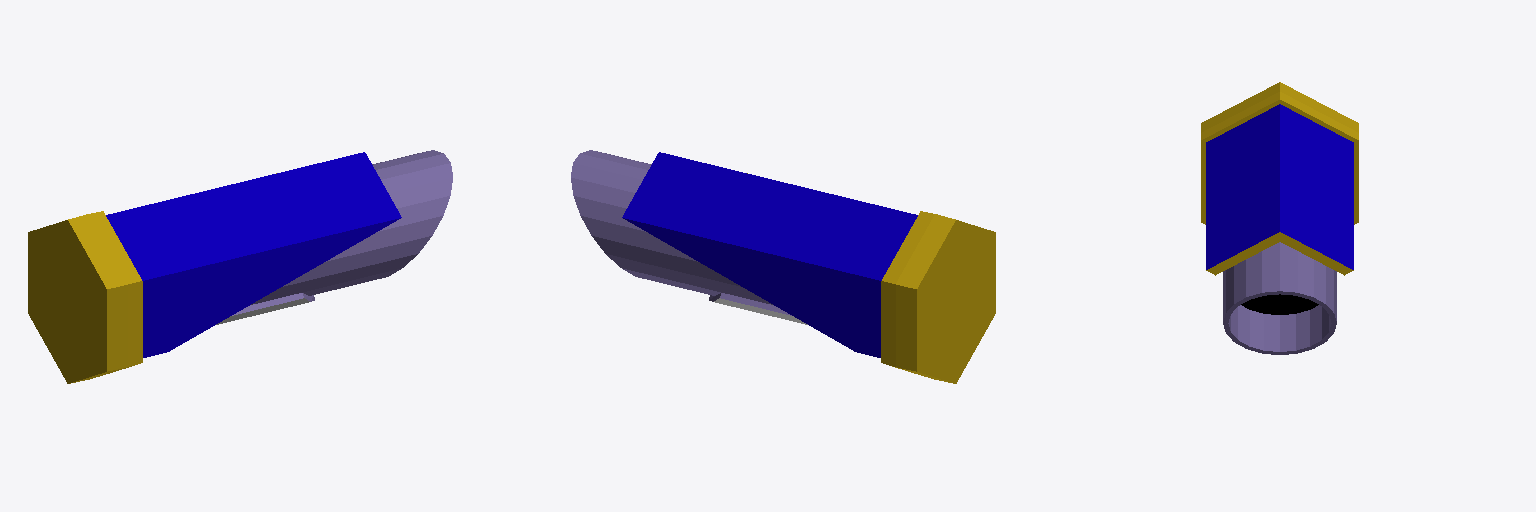
File: Kepler.obj
The picture shows the model from 3 angles: view 1: azimuth 30°, elevation 25°; view 2: azimuth 150°, elevation 25°; view 3: azimuth 270°, elevation 25°; orthographic projection.
Visible parts, largest first — view 1: Kepler; view 2: Kepler; view 3: Kepler.
Boxes of the visible parts, <box> form: Kepler: <box>28,150,452,383</box>; Kepler: <box>571,150,995,383</box>; Kepler: <box>1201,82,1358,354</box>.
Bounding box in the file's own units: 4.7 × 1.98 × 1.71.